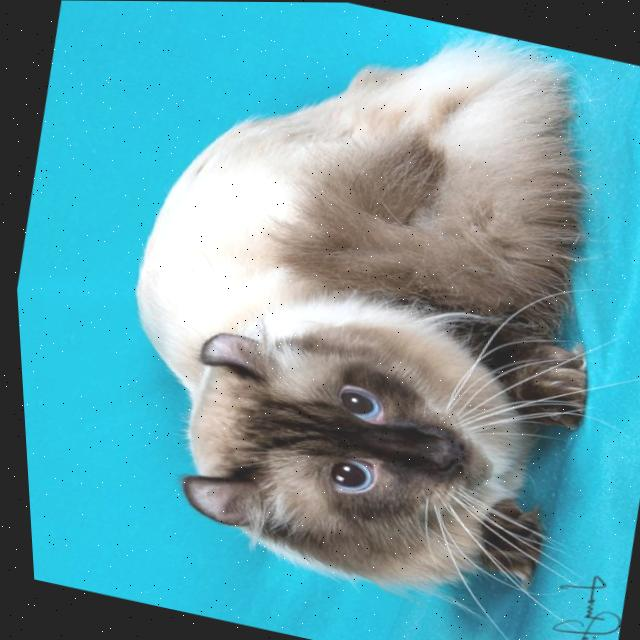American Curl: (54, 0, 640, 628)
